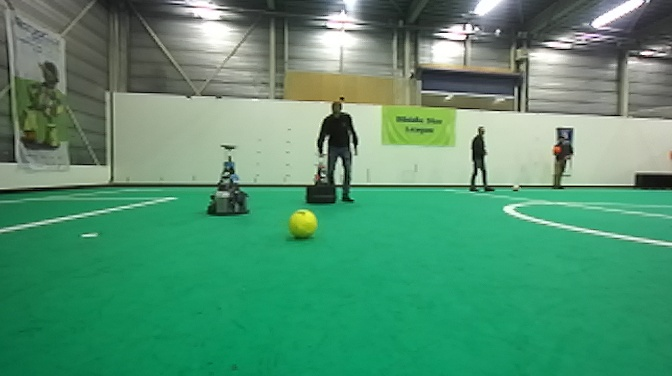ball: (288, 209, 318, 240), (549, 145, 561, 156), (510, 182, 521, 192)
human: (314, 99, 358, 203), (467, 125, 495, 193), (547, 135, 574, 190)
robot: (205, 143, 252, 217), (305, 154, 337, 205)
